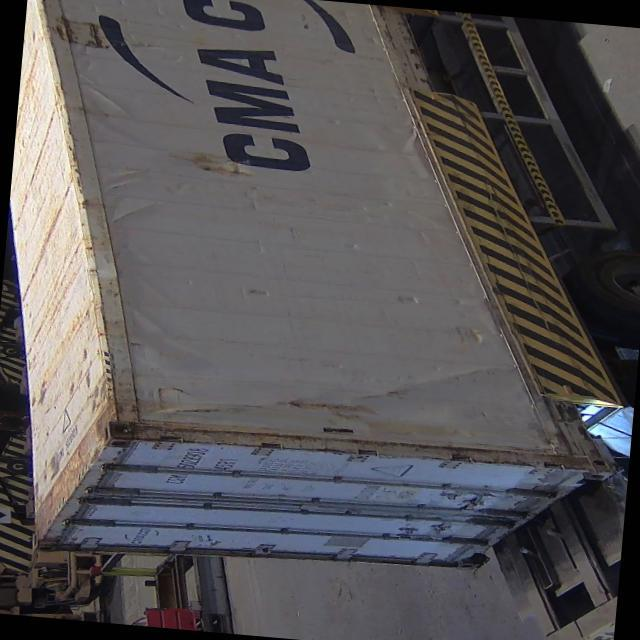dent: (381, 348, 506, 408), (173, 142, 256, 195)
rust: (83, 411, 214, 458), (261, 391, 370, 420)
